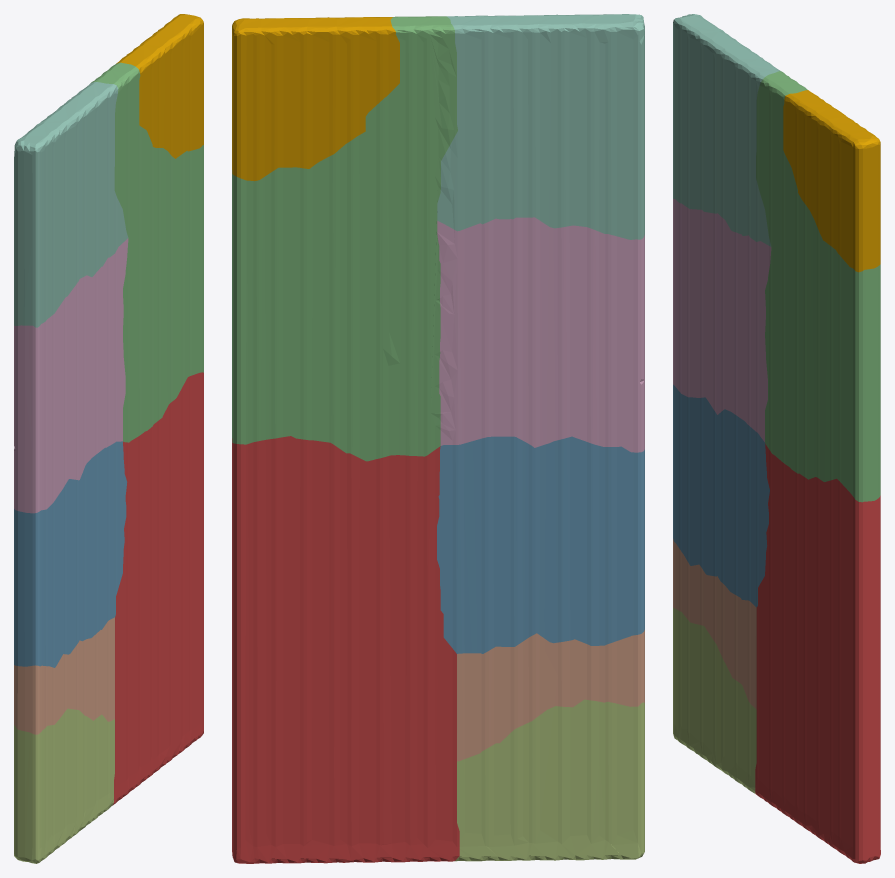
The model's file is fractured_27_8pcs.glb.
The picture shows the model from 3 angles, left to right: view 1: azimuth 30°, elevation 25°; view 2: azimuth 150°, elevation 25°; view 3: azimuth 270°, elevation 25°; orthographic projection. The views are drawn at different scales.
Visible parts, largest first — view 1: piece_1.obj, piece_3.obj, piece_6.obj, piece_4.obj, piece_2.obj, piece_5.obj, piece_0.obj, piece_7.obj; view 2: piece_1.obj, piece_3.obj, piece_6.obj, piece_4.obj, piece_2.obj, piece_5.obj, piece_0.obj, piece_7.obj; view 3: piece_1.obj, piece_3.obj, piece_6.obj, piece_4.obj, piece_2.obj, piece_0.obj, piece_5.obj, piece_7.obj.
Part boxes in pixels (left/top/right/bottom): piece_1.obj: left=112, top=372, right=203, bottom=805; piece_3.obj: left=91, top=62, right=203, bottom=442; piece_6.obj: left=14, top=238, right=128, bottom=513; piece_4.obj: left=14, top=82, right=128, bottom=327; piece_2.obj: left=14, top=441, right=127, bottom=667; piece_5.obj: left=14, top=708, right=114, bottom=863; piece_0.obj: left=116, top=14, right=203, bottom=158; piece_7.obj: left=14, top=617, right=114, bottom=734; piece_1.obj: left=232, top=436, right=459, bottom=863; piece_3.obj: left=232, top=16, right=457, bottom=461; piece_6.obj: left=437, top=217, right=644, bottom=452; piece_4.obj: left=437, top=14, right=644, bottom=239; piece_2.obj: left=437, top=436, right=644, bottom=653; piece_5.obj: left=454, top=699, right=644, bottom=861; piece_0.obj: left=232, top=17, right=399, bottom=181; piece_7.obj: left=457, top=630, right=644, bottom=761; piece_1.obj: left=755, top=443, right=880, bottom=863; piece_3.obj: left=756, top=71, right=880, bottom=502; piece_6.obj: left=673, top=199, right=771, bottom=441; piece_4.obj: left=673, top=14, right=780, bottom=246; piece_2.obj: left=673, top=384, right=769, bottom=607; piece_0.obj: left=783, top=90, right=880, bottom=272; piece_5.obj: left=673, top=607, right=756, bottom=793; piece_7.obj: left=673, top=539, right=756, bottom=709.
Bounding box in the file's own units: 0.3933 × 1 × 0.2607.
